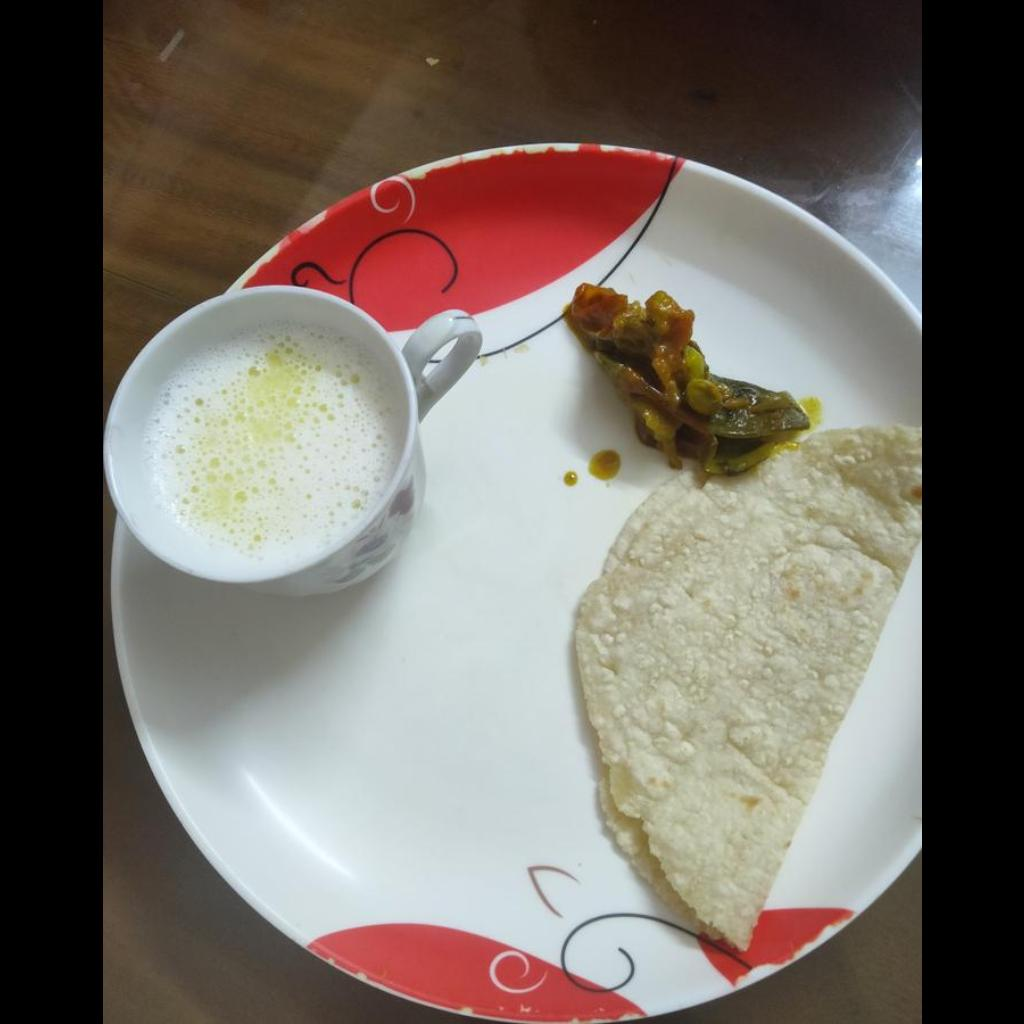milk: (136, 326, 406, 562)
potol: (564, 283, 810, 473)
ruti: (579, 427, 920, 955)
